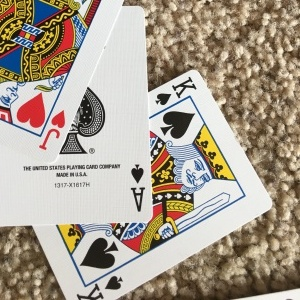card: (32, 69, 273, 299)
